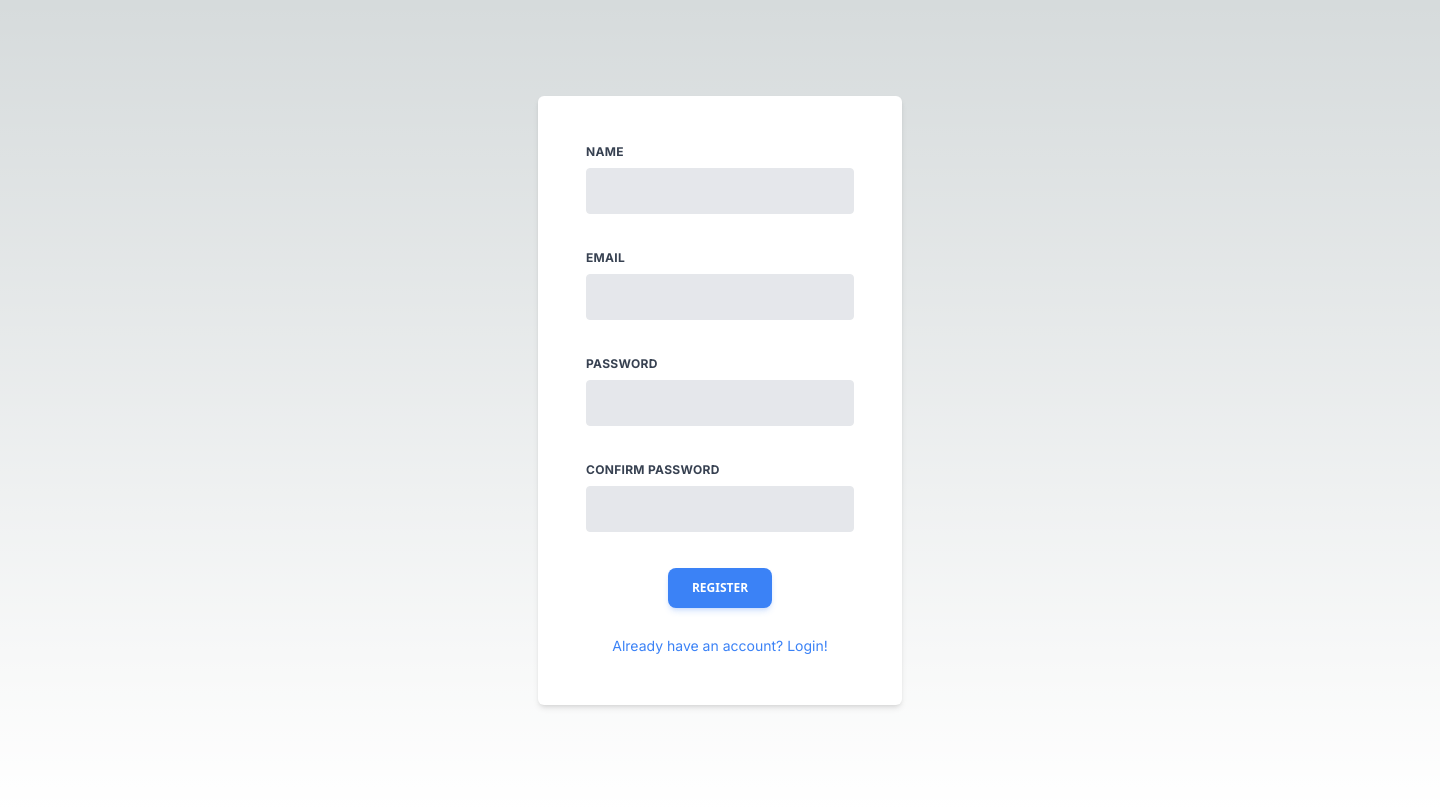
Test case: Form validation works correctly
Type "invalid-email" into the field with test id "email" at (720, 297), box x1=586 y1=274 x2=854 y2=320
Type "short" into the password field with test id "password" at (720, 403), box x1=586 y1=380 x2=854 y2=426
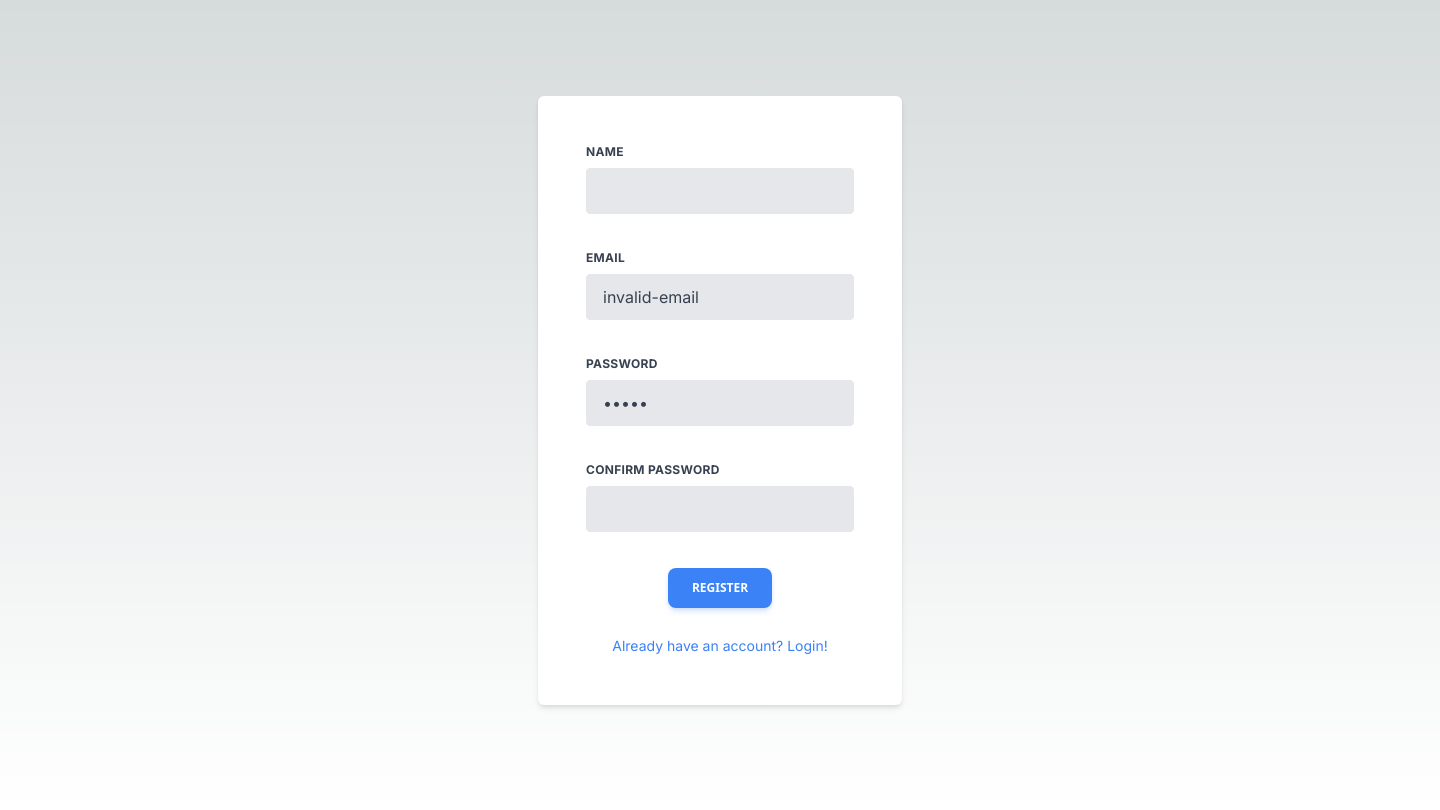
Type "passwordMismatch" into the password field with test id "confirmPassword" at (720, 509), box x1=586 y1=486 x2=854 y2=532
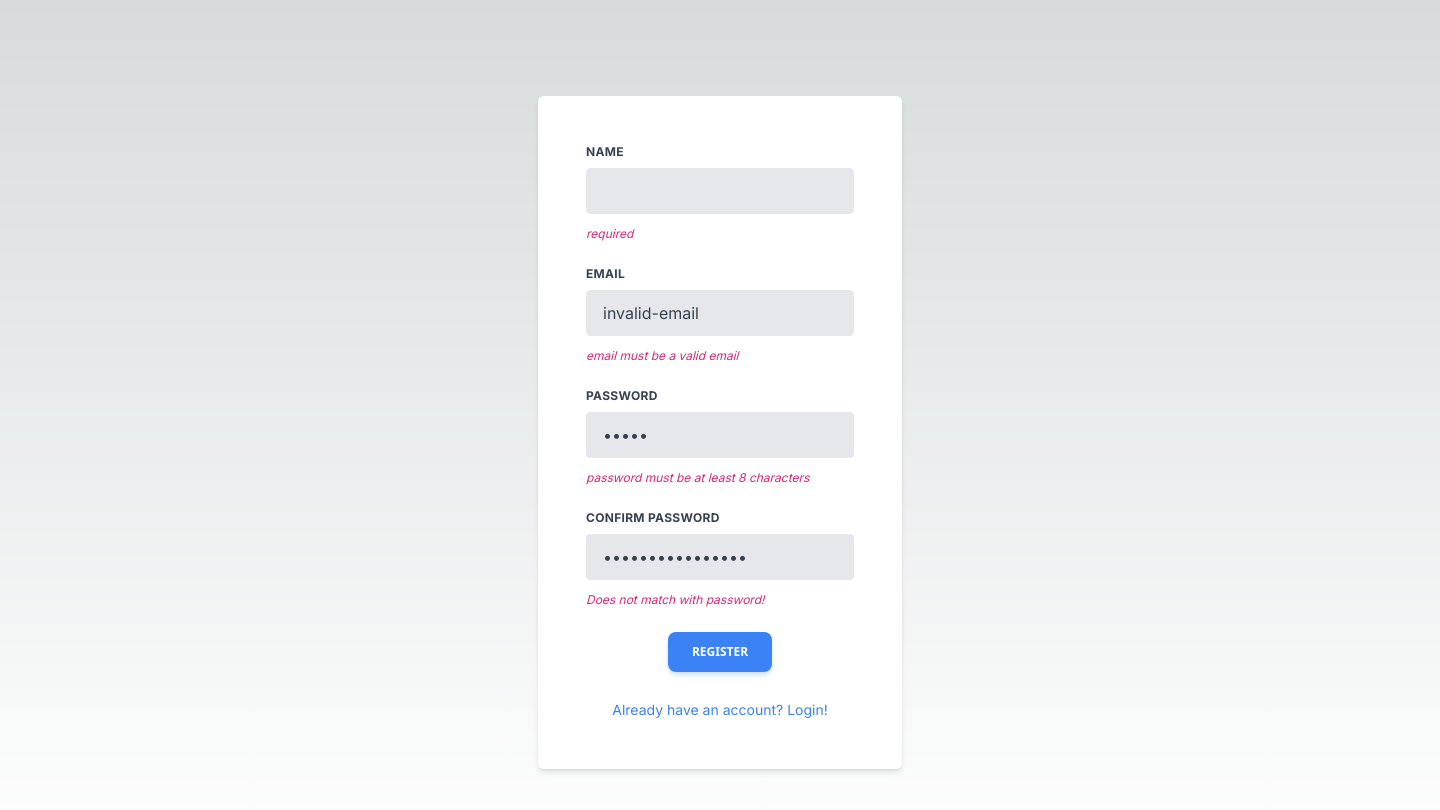
Expected: the text "required" is shown, x1=586 y1=226 x2=633 y2=241
Expected: the text "email must be a valid email" is shown, x1=586 y1=348 x2=738 y2=363
Expected: the text "password must be at least 8 characters" is shown, x1=586 y1=470 x2=809 y2=485
// Reset the form
Type "ValidName" into the field with test id "name" at (720, 191), box x1=586 y1=168 x2=854 y2=214
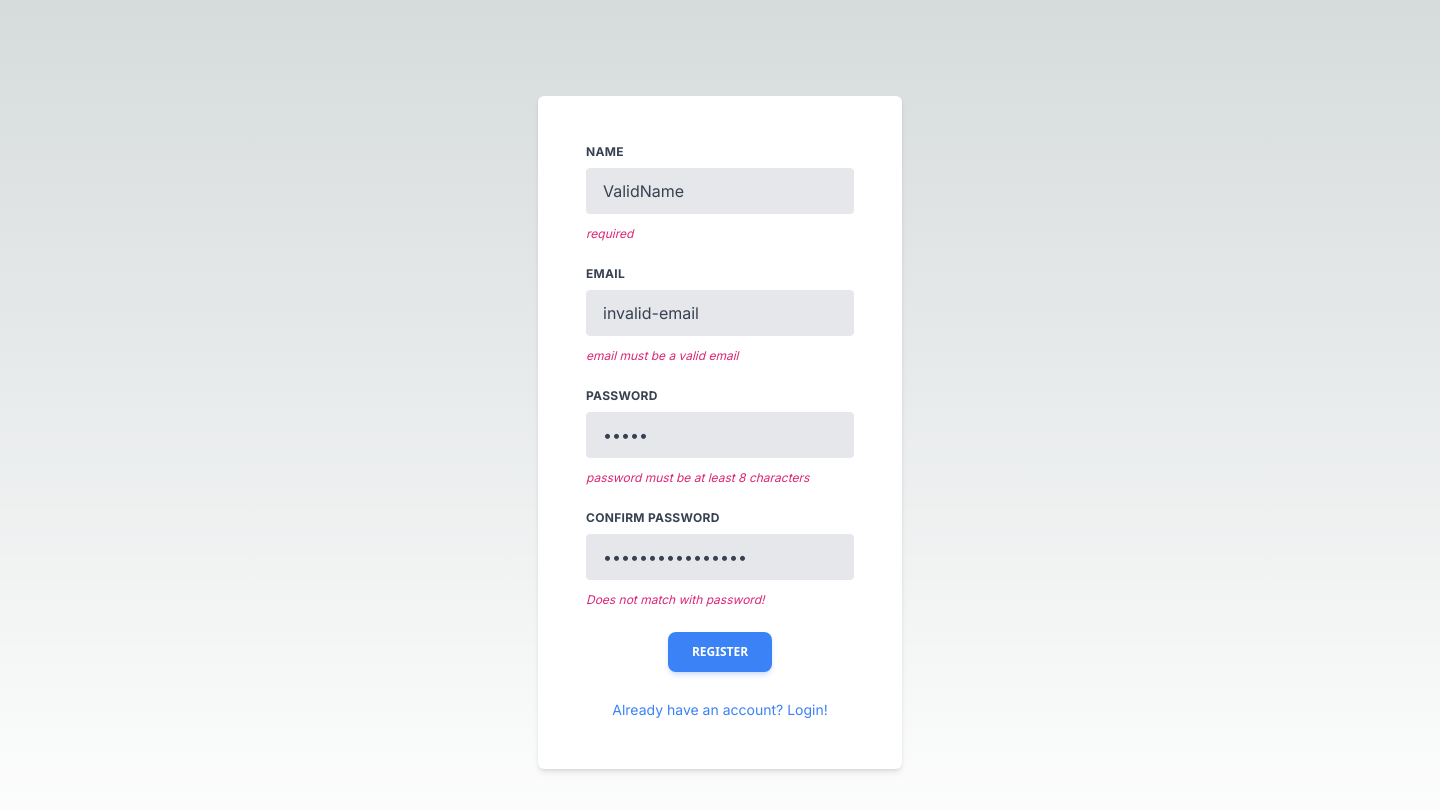
Replace the text in the field with test id "email" with "valid@email.com" at (720, 313), box x1=586 y1=290 x2=854 y2=336
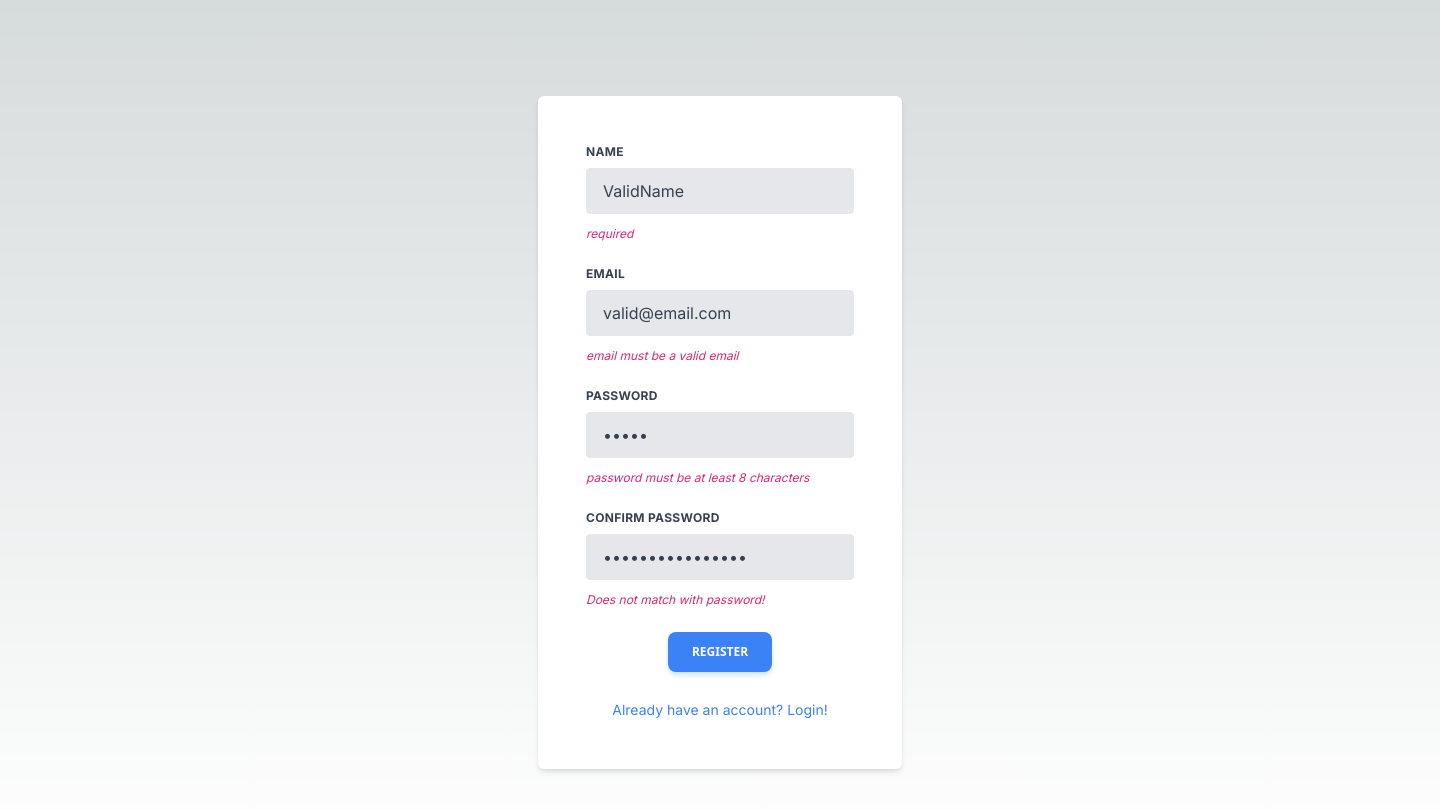
Type "ValidPassword" into the password field with test id "password" at (720, 435), box x1=586 y1=412 x2=854 y2=458
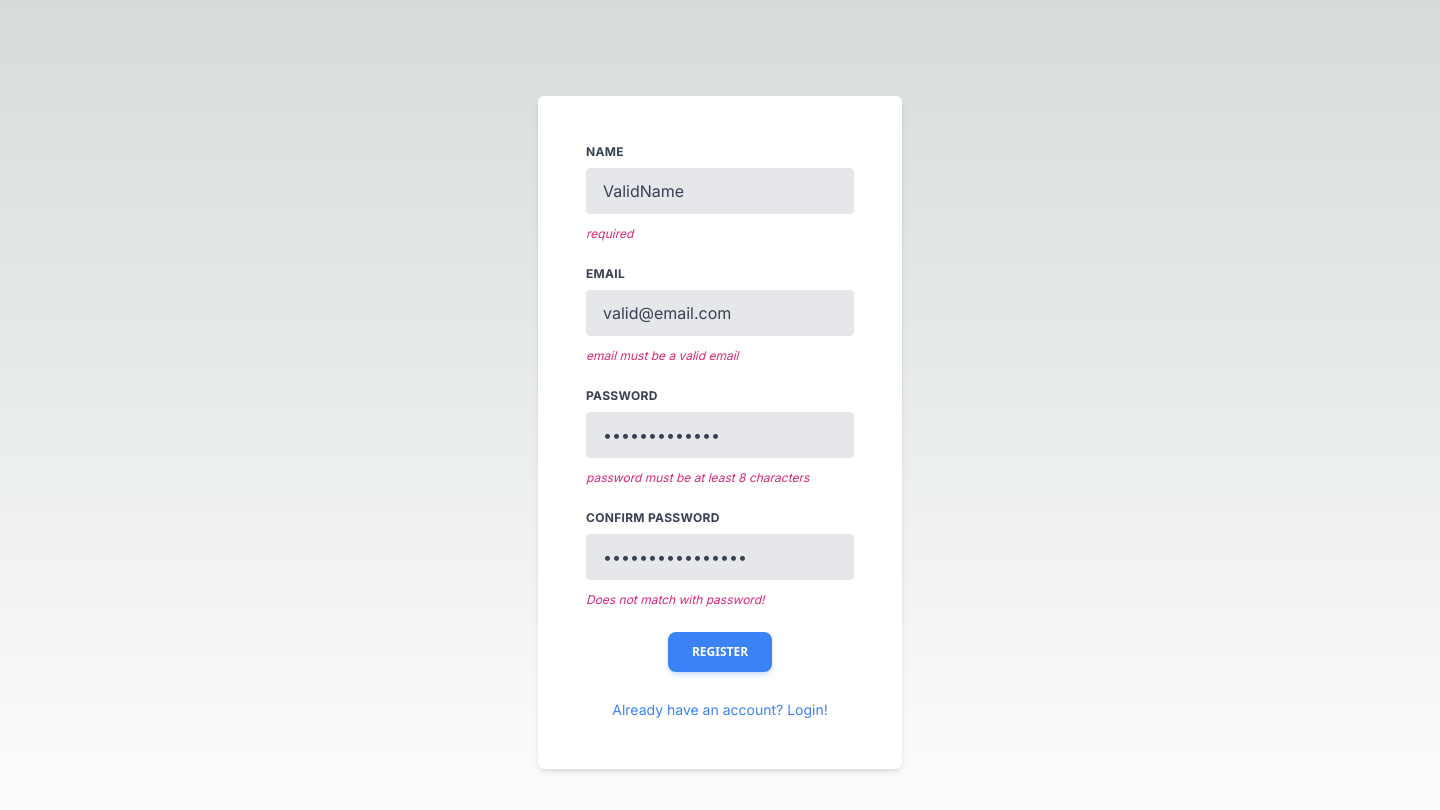
Type "ValidPassword" into the password field with test id "confirmPassword" at (720, 557), box x1=586 y1=534 x2=854 y2=580
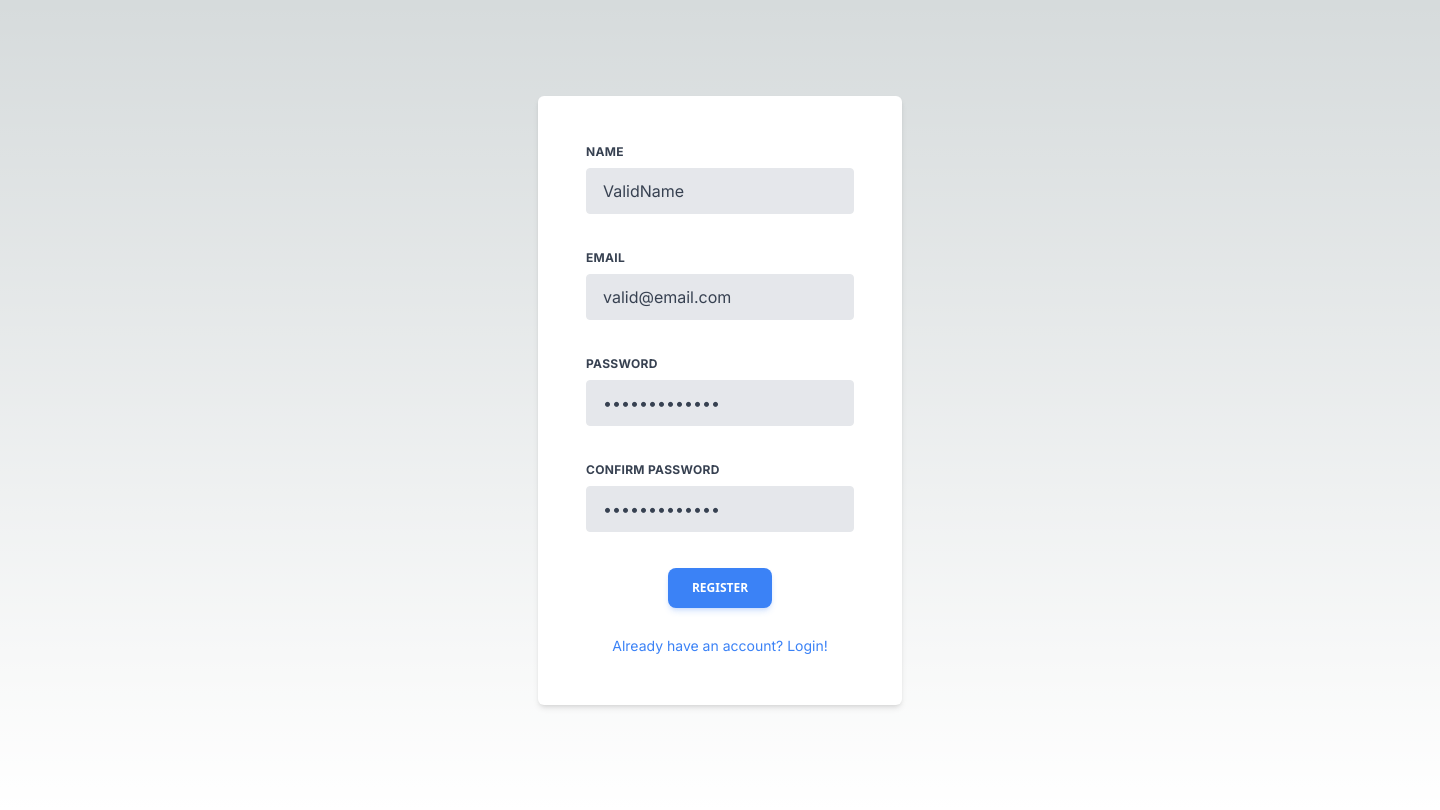
Expected: the text "required" is gone
Expected: the text "email must be a valid email" is gone
Expected: the text "password must be at least 8 characters" is gone
